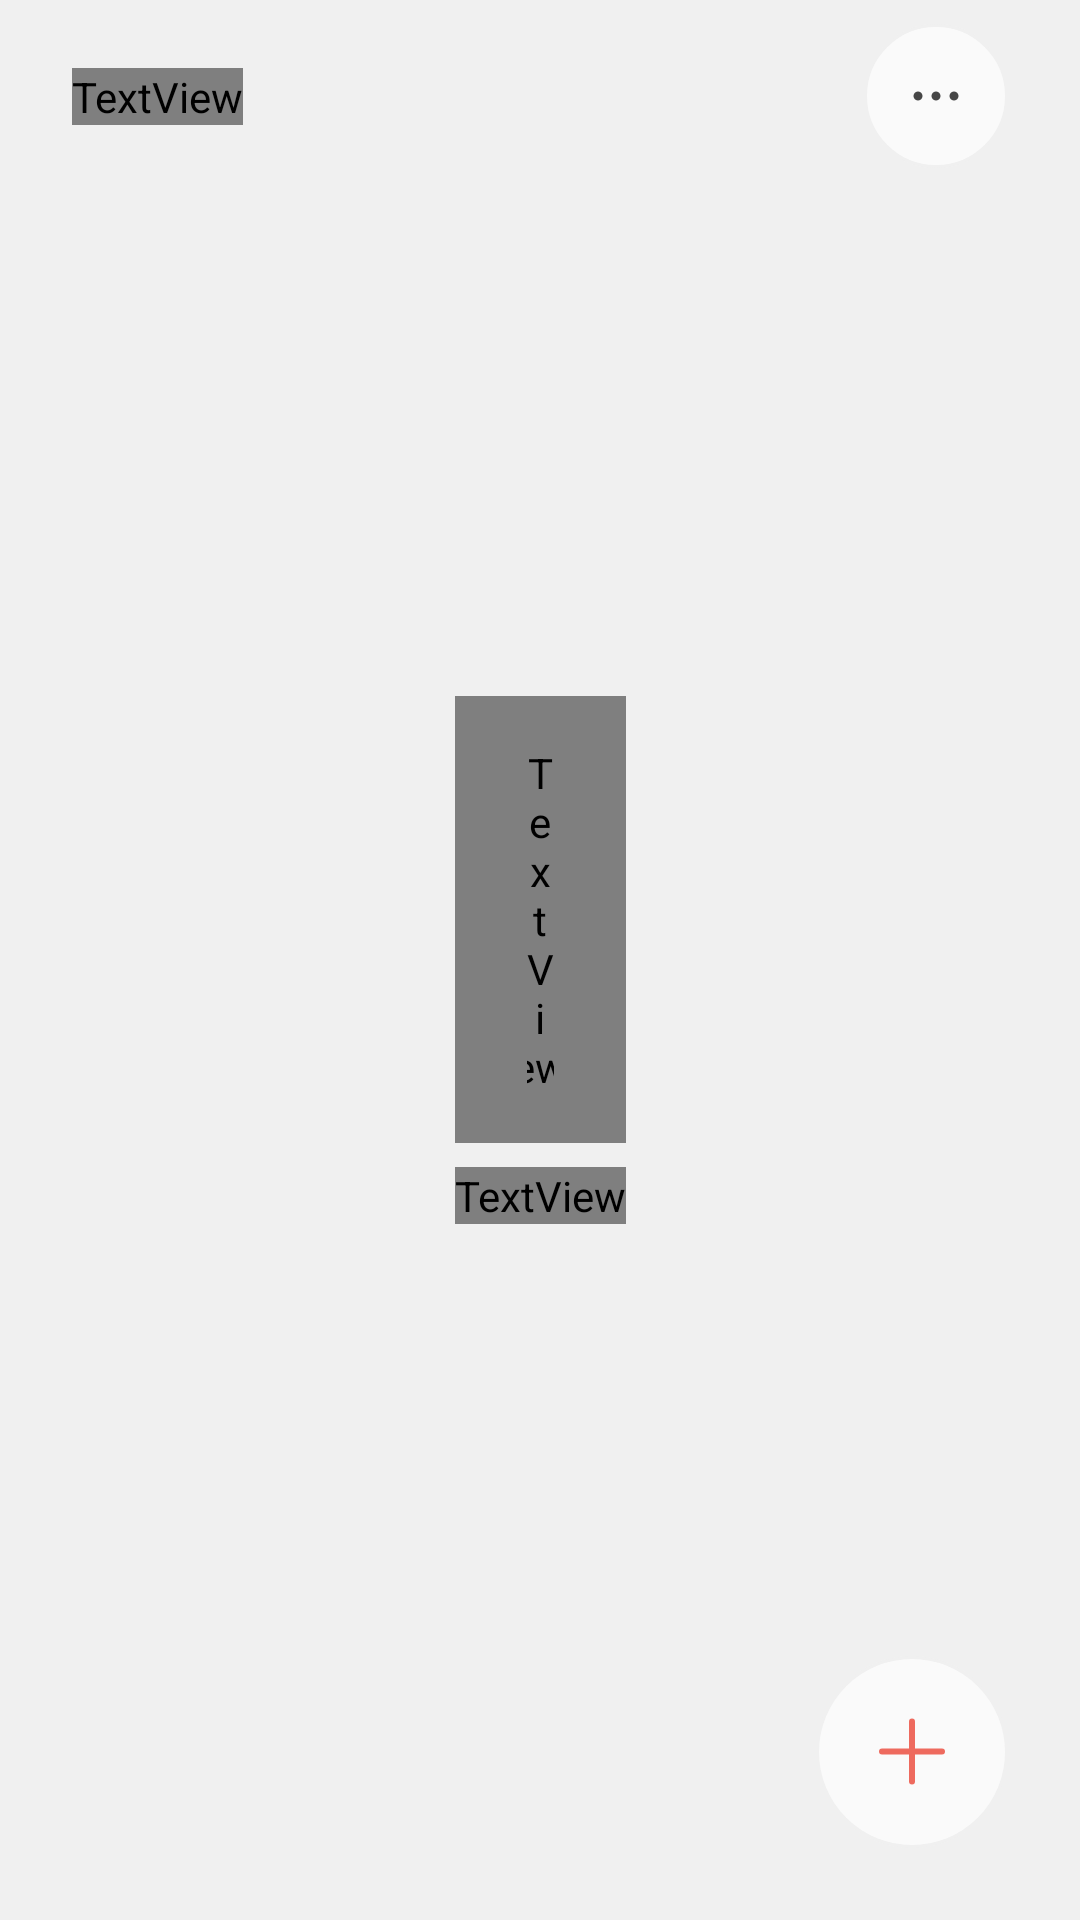

Icons on this 1080px×1920px Android screen, each with the point to tap as (x=x, y=y):
Add todo item: (x=912, y=1752)
Menu: (x=936, y=96)
